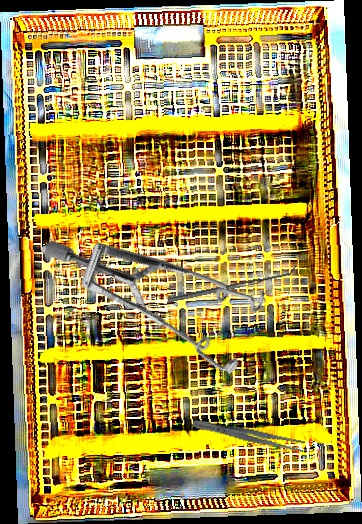Dressing Forceps: (191, 415, 306, 455)
Spatula Surgical: (166, 265, 298, 303)
Speculum: (39, 159, 291, 424)
